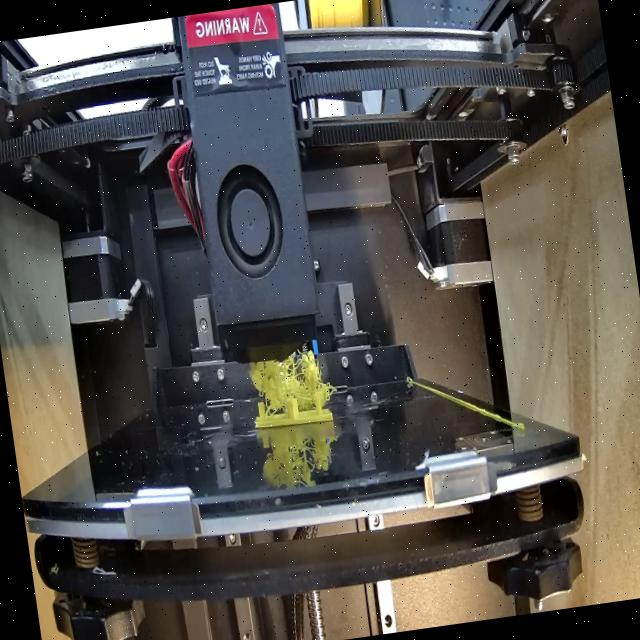spaghetti: (250, 341, 338, 416)
